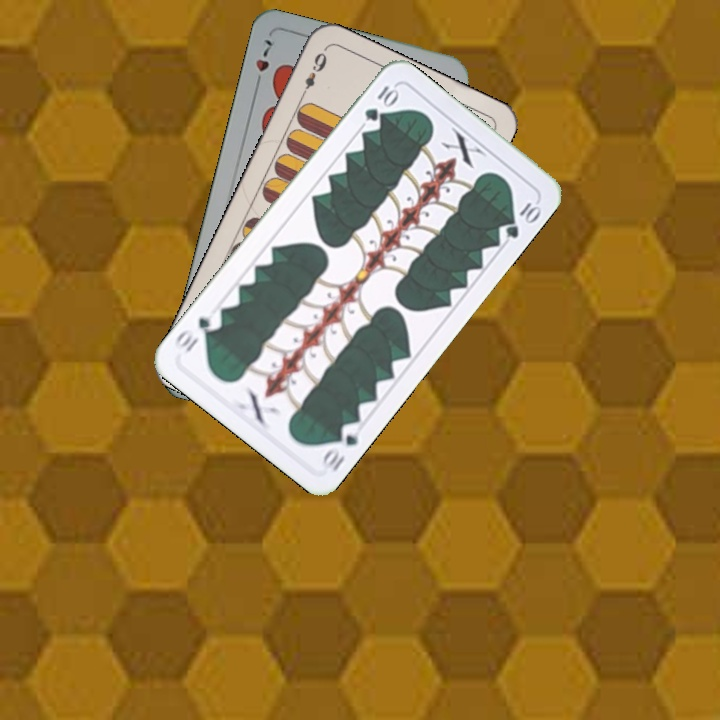E9: (296, 48, 330, 101)
G10: (318, 418, 364, 475), (360, 81, 401, 124)
H7: (251, 35, 275, 91)
